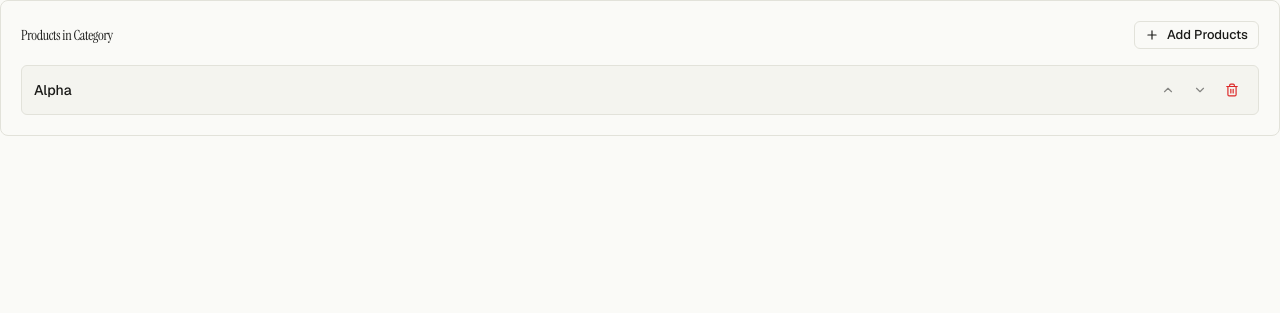
CategoryProductsManager › filters picker by search and excludes already-assigned
Click the button "Add Products" at coordinates (1196, 35), box [1134,21,1259,49]
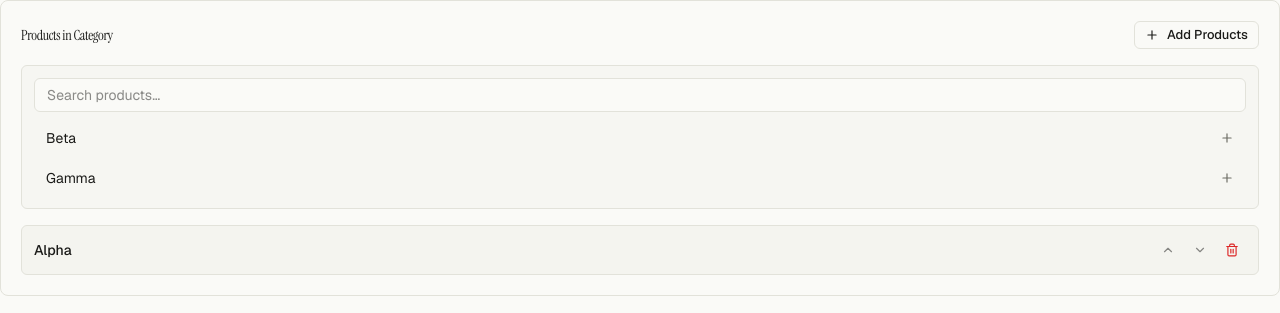
Expected: the text "Beta" is shown, [46,128,76,148]
Type "gam" into the field with placeholder "Search products…" at coordinates (640, 95), box [34,78,1246,112]
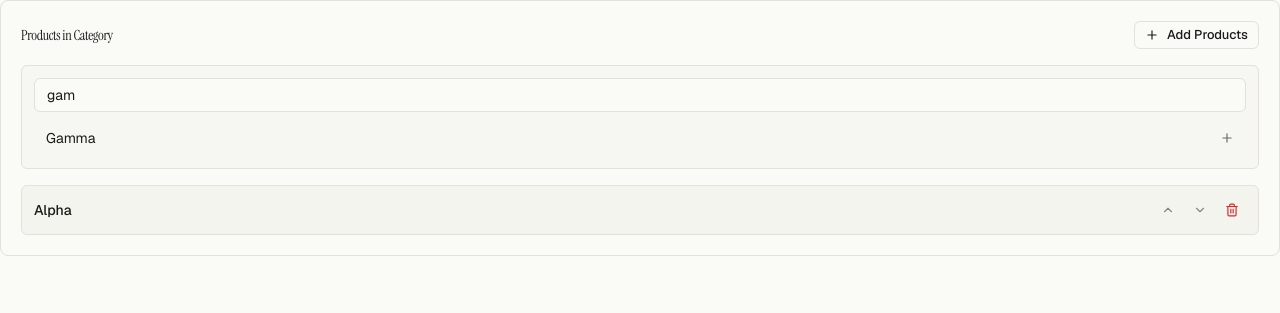
Expected: the text "Gamma" is shown, [46,128,96,148]
Expected: the button "Beta" is gone
